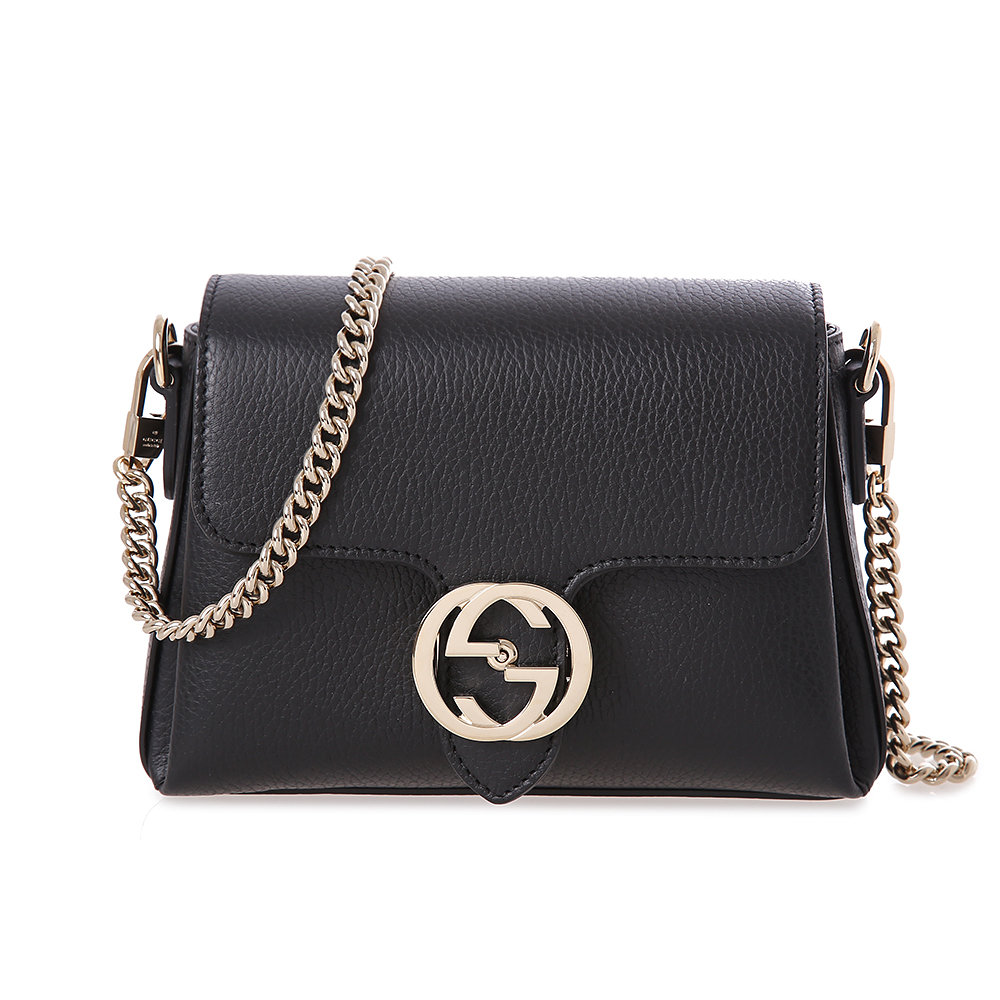Gucci: (130, 253, 913, 841), (409, 547, 664, 767)
